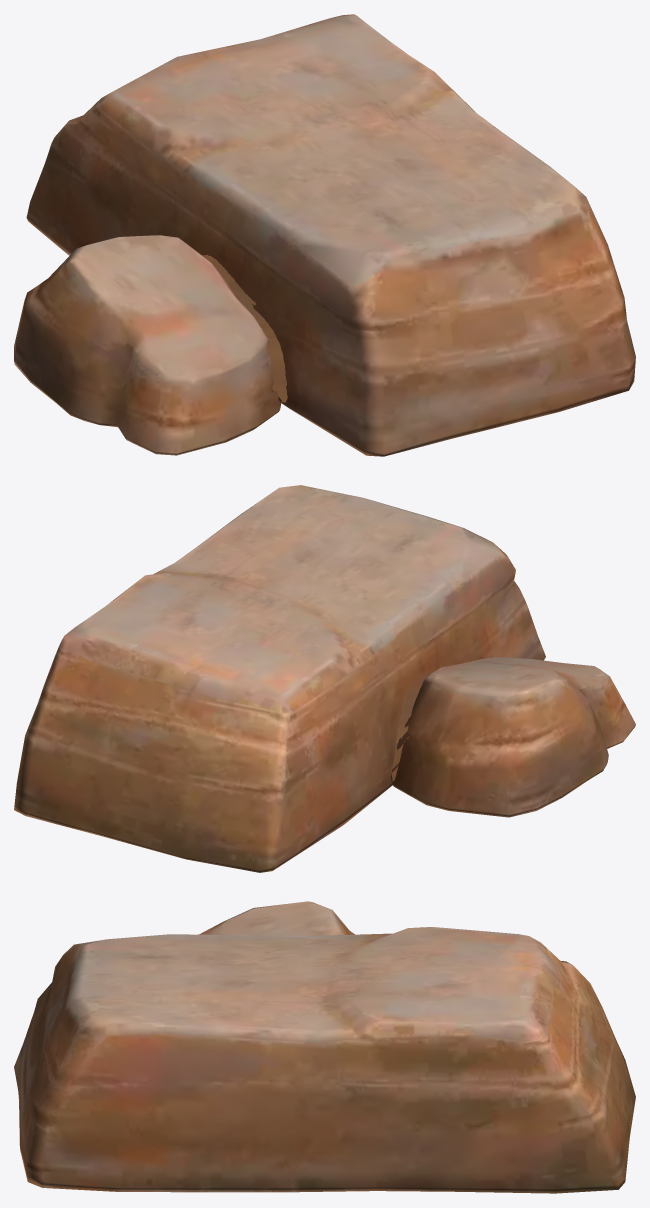
3 renders of one model, top to bottom at view 1: azimuth 30°, elevation 25°; view 2: azimuth 150°, elevation 25°; view 3: azimuth 270°, elevation 25°, orthographic. The views are drawn at different scales.
Visible parts, largest first — view 1: SM_Sandstone_01_LOD0; view 2: SM_Sandstone_01_LOD0; view 3: SM_Sandstone_01_LOD0.
Part boxes in pixels (x1=…): SM_Sandstone_01_LOD0: x1=14, y1=14, x2=635, y2=456; SM_Sandstone_01_LOD0: x1=14, y1=485, x2=635, y2=872; SM_Sandstone_01_LOD0: x1=14, y1=901, x2=635, y2=1193.
Size of the model in its own units: 0.3337 by 0.119 by 0.4165.
Materials: 1 (1 with a texture image).
